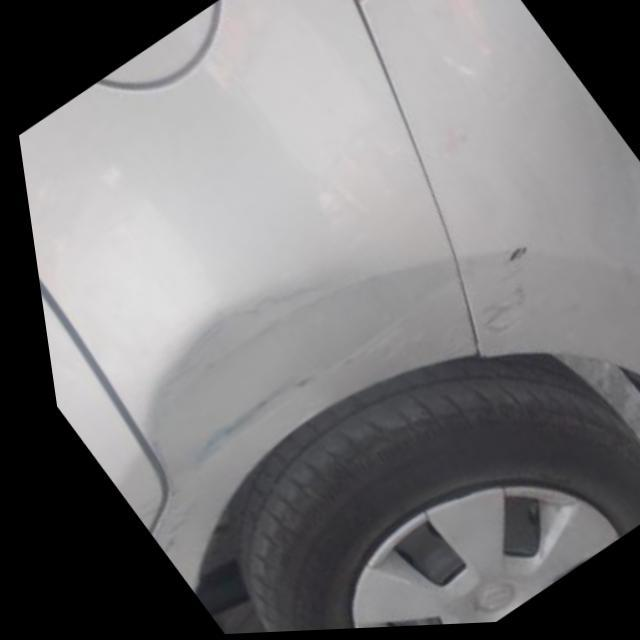crack: (494, 246, 523, 268)
scratch: (126, 262, 401, 567), (180, 321, 432, 463), (461, 291, 522, 341)
